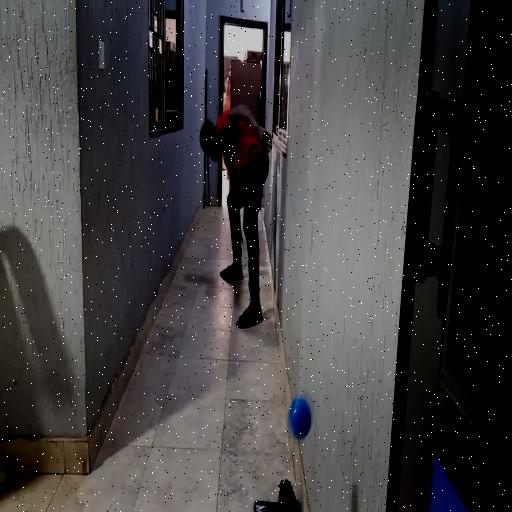plastic-ball: (287, 394, 312, 440)
